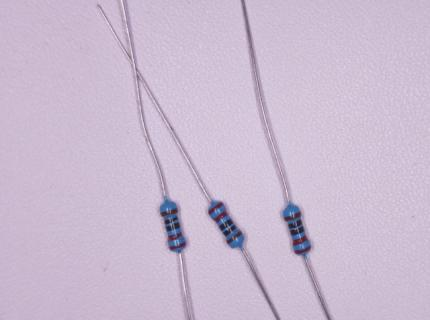Red band: (207, 202, 224, 215), (291, 235, 309, 246), (214, 211, 228, 223), (294, 246, 312, 255), (170, 242, 187, 250), (168, 232, 183, 241)
